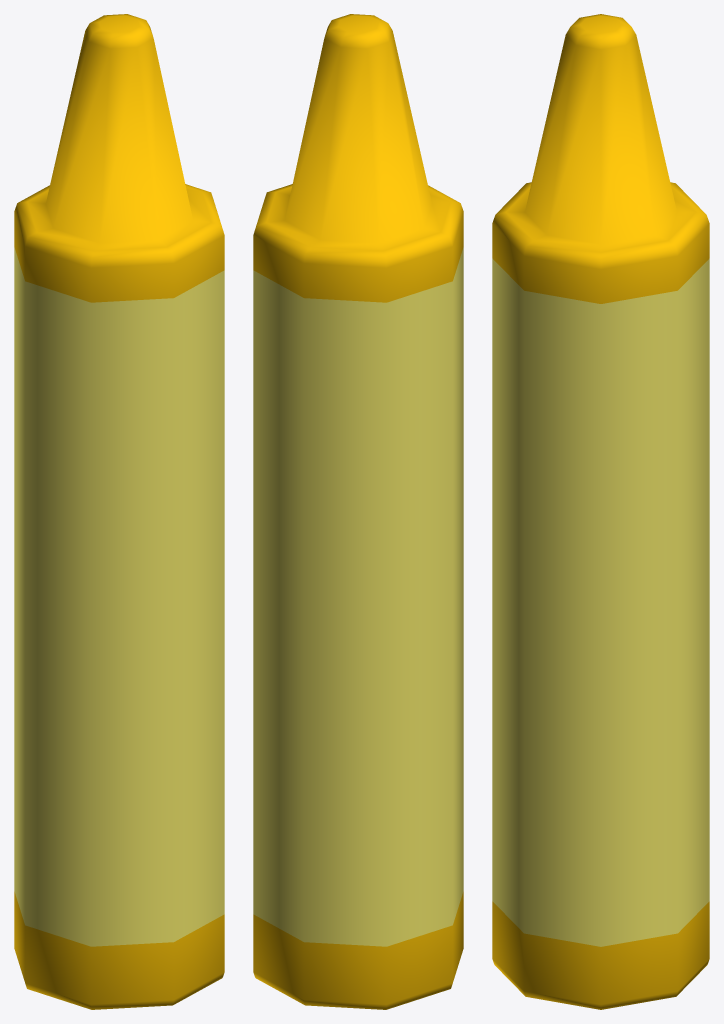
Rendered from CrayonYellow.fbx.
The picture shows the model from 3 angles, left to right: view 1: azimuth 30°, elevation 25°; view 2: azimuth 150°, elevation 25°; view 3: azimuth 270°, elevation 25°; orthographic projection.
Visible parts, largest first — view 1: CrayonYellow; view 2: CrayonYellow; view 3: CrayonYellow.
Part boxes in pixels (x1=…): CrayonYellow: x1=14, y1=14, x2=224, y2=1009; CrayonYellow: x1=253, y1=14, x2=463, y2=1009; CrayonYellow: x1=492, y1=14, x2=709, y2=1009.
Size of the model in its own units: 2.1 by 10.01 by 2.1.
